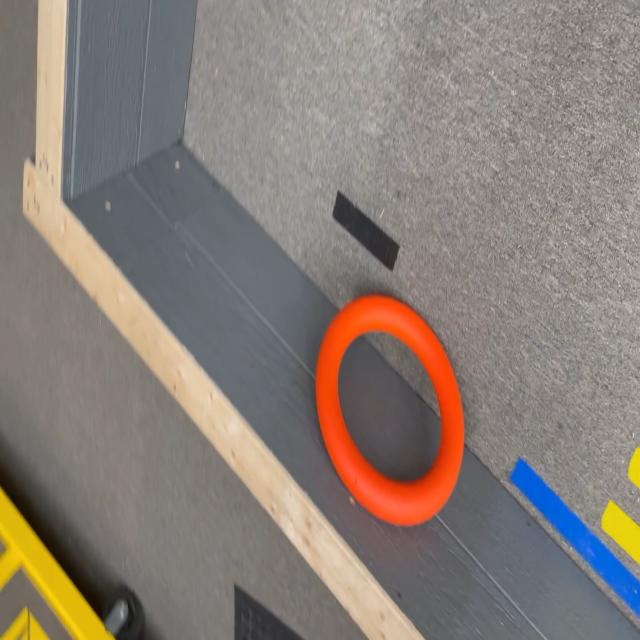note: (316, 295, 464, 526)
